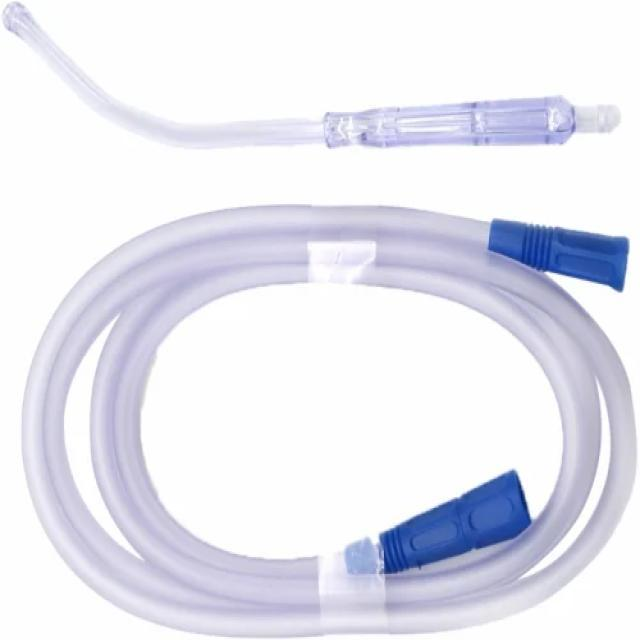Suction Tube Nozzle: (3, 0, 638, 639)
